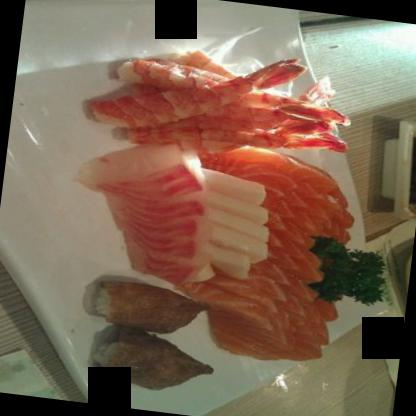salmon: (176, 140, 366, 366)
shrimp: (88, 41, 302, 147), (108, 54, 352, 130), (122, 107, 348, 168)
